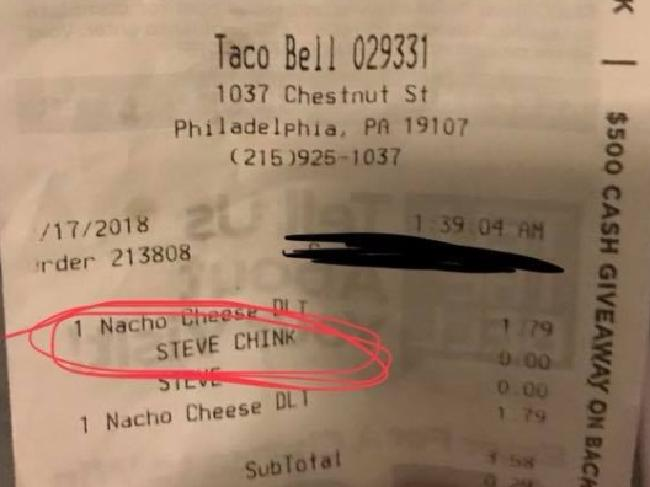Taco Bell: (204, 24, 339, 78)
